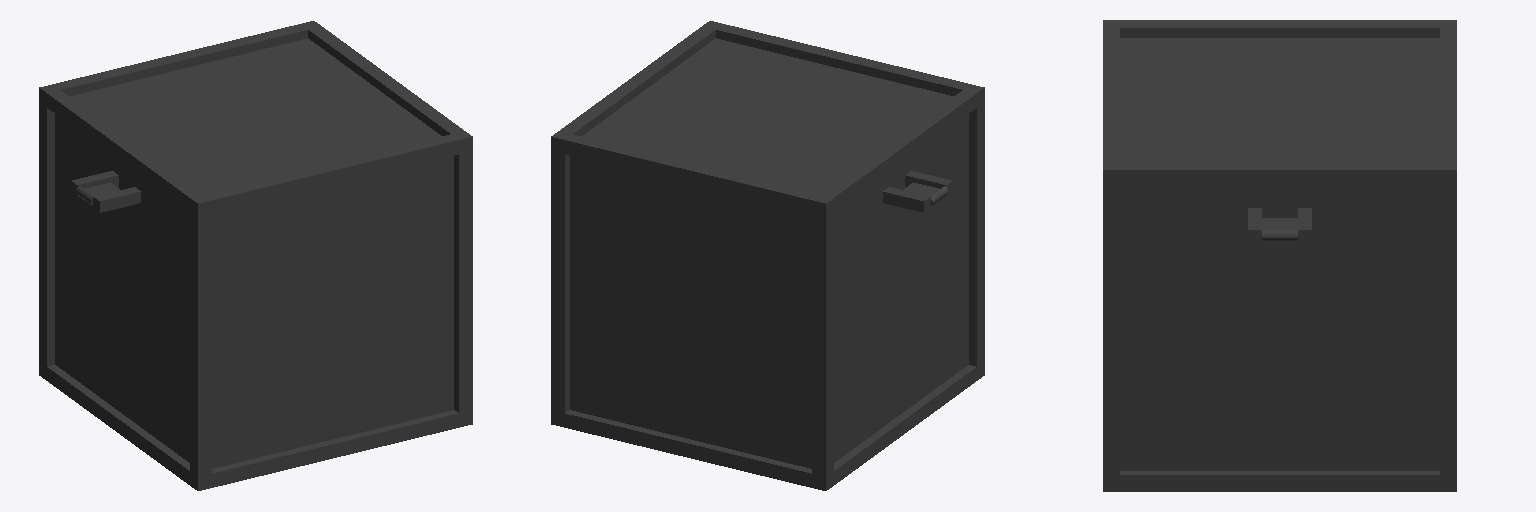
robot.urdf — box_description:
<?xml version="1.0" ?>
<!-- =================================================================================== -->
<!-- |    This document was autogenerated by xacro from src/legged_software/legged_interfaces/unitree_ros/robots/b1z1_description/xacro/box_with_handles.xacro | -->
<!-- |    EDITING THIS FILE BY HAND IS NOT RECOMMENDED                                 | -->
<!-- =================================================================================== -->
<robot name="box_description">
  <!-- Material definitions -->
  <material name="dark_gray">
    <color rgba="0.3 0.3 0.3 0.5"/>
  </material>
  <!-- Box link -->
  <link name="box">
    <inertial>
      <mass value="1"/>
      <origin rpy="0 0 0" xyz="0 0 0"/>
      <inertia ixx="0.16670" ixy="0.0" ixz="0.0" iyy="0.16670" iyz="0.0" izz="0.16670"/>
    </inertial>
    <visual>
      <geometry>
        <mesh filename="package://ocs2_multi_robot/assets/robot/b1z1_description/meshes/box.stl"/>
      </geometry>
      <origin rpy="0 0 0" xyz="0 0 0"/>
      <material name="dark_gray"/>
    </visual>
    <collision>
      <geometry>
        <mesh filename="package://ocs2_multi_robot/assets/robot/b1z1_description/meshes/box.stl"/>
      </geometry>
      <origin rpy="0 0 0" xyz="0 0 0"/>
    </collision>
  </link>
  <!-- Add an IMU sensor to the box -->
  <!-- <gazebo reference="box">
    <sensor name="box_imu" type="imu">
      <update_rate>1000</update_rate> 
      <plugin filename="libgazebo_ros_imu.so" name="imu_plugin">
        <ros>
          <namespace>/box</namespace> 
          <remapping>
            <remap from="imu/data" to="box/imu/data"/> 
          </remapping>
        </ros>
        <frameName>box</frameName>
      </plugin>
      <pose>0 0 0 0 0 0</pose> 
    </sensor>
  </gazebo> -->
  <joint name="imu_joint" type="fixed">
    <parent link="box"/>
    <child link="box_imu_link"/>
    <origin rpy="0 0 0" xyz="0 0 0"/>
  </joint>
  <link name="box_imu_link">
    <inertial>
      <mass value="0.001"/>
      <origin rpy="0 0 0" xyz="0 0 0"/>
      <inertia ixx="0.0001" ixy="0" ixz="0" iyy="0.0001" iyz="0" izz="0.0001"/>
    </inertial>
    <visual>
      <origin rpy="0 0 0" xyz="0 0 0"/>
      <geometry>
        <box size="0.001 0.001 0.001"/>
      </geometry>
      <material name="red"/>
    </visual>
    <collision>
      <origin rpy="0 0 0" xyz="0 0 0"/>
      <geometry>
        <box size=".001 .001 .001"/>
      </geometry>
    </collision>
  </link>
  <gazebo reference="box_imu_link">
    <gravity>true</gravity>
    <sensor name="imu_sensor" type="imu">
      <always_on>true</always_on>
      <update_rate>1000</update_rate>
      <visualize>true</visualize>
      <topic>__default_topic__</topic>
      <plugin filename="libgazebo_ros_imu_sensor.so" name="imu_plugin">
        <topicName>cargo_imu</topicName>
        <bodyName>imu_link</bodyName>
        <updateRateHZ>1000.0</updateRateHZ>
        <gaussianNoise>0.0</gaussianNoise>
        <xyzOffset>0 0 0</xyzOffset>
        <rpyOffset>0 0 0</rpyOffset>
        <frameName>imu_link</frameName>
      </plugin>
      <pose>0 0 0 0 0 0</pose>
    </sensor>
  </gazebo>
  <!-- Left handle -->
  <link name="left_handle">
    <inertial>
      <mass value="0.01"/>
      <origin rpy="1.5708 0 1.5708" xyz="0 0 0"/>
      <inertia ixx="0.001" ixy="0.0" ixz="0.0" iyy="0.001" iyz="0.0" izz="0.001"/>
    </inertial>
    <visual>
      <geometry>
        <mesh filename="package://ocs2_multi_robot/assets/robot/b1z1_description/meshes/handle.STL" scale="0.001 0.001 0.001"/>
      </geometry>
      <origin rpy="1.5708 0 1.5708" xyz="0 0 0"/>
      <material name="dark_gray"/>
    </visual>
    <collision>
      <geometry>
        <mesh filename="package://ocs2_multi_robot/assets/robot/b1z1_description/meshes/handle.STL" scale="0.001 0.001 0.001"/>
      </geometry>
      <origin rpy="1.5708 0 1.5708" xyz="0 0 0"/>
    </collision>
  </link>
  <!-- Add Gazebo friction properties -->
  <gazebo reference="left_handle">
    <material>Gazebo/DarkGrey</material>
    <mu1>1.5</mu1>
    <!-- Friction coefficient in first direction -->
    <mu2>1.5</mu2>
    <!-- Friction coefficient in second direction -->
    <kp>1000000.0</kp>
    <!-- Contact stiffness -->
    <kd>100.0</kd>
    <!-- Contact damping -->
    <minDepth>0.001</minDepth>
    <maxVel>0.1</maxVel>
  </gazebo>
  <!-- Right handle -->
  <link name="right_handle">
    <inertial>
      <mass value="0.01"/>
      <origin rpy="1.5708 0 -1.5708" xyz="0 0 0"/>
      <inertia ixx="0.001" ixy="0.0" ixz="0.0" iyy="0.001" iyz="0.0" izz="0.001"/>
    </inertial>
    <visual>
      <geometry>
        <mesh filename="package://ocs2_multi_robot/assets/robot/b1z1_description/meshes/handle.STL" scale="0.001 0.001 0.001"/>
      </geometry>
      <origin rpy="1.5708 0 -1.5708" xyz="0 0 0"/>
      <material name="dark_gray"/>
    </visual>
    <collision>
      <geometry>
        <mesh filename="package://ocs2_multi_robot/assets/robot/b1z1_description/meshes/handle.STL" scale="0.001 0.001 0.001"/>
      </geometry>
      <origin rpy="1.5708 0 -1.5708" xyz="0 0 0"/>
    </collision>
  </link>
  <!-- Add Gazebo friction properties -->
  <gazebo reference="right_handle">
    <material>Gazebo/DarkGrey</material>
    <mu1>1.5</mu1>
    <!-- Friction coefficient in first direction -->
    <mu2>1.5</mu2>
    <!-- Friction coefficient in second direction -->
    <kp>1000000.0</kp>
    <!-- Contact stiffness -->
    <kd>100.0</kd>
    <!-- Contact damping -->
    <minDepth>0.001</minDepth>
    <maxVel>0.1</maxVel>
  </gazebo>
  <!-- Left handle end cube 1 -->
  <link name="left_handle_cube1">
    <inertial>
      <mass value="0.001"/>
      <origin rpy="0 0 0" xyz="0 0 0"/>
      <inertia ixx="0.0001" ixy="0.0" ixz="0.0" iyy="0.0001" iyz="0.0" izz="0.0001"/>
    </inertial>
    <visual>
      <geometry>
        <box size="0.15 0.04 0.04"/>
      </geometry>
      <origin rpy="0 0 0" xyz="0.055 0 0"/>
      <material name="dark_gray"/>
    </visual>
    <collision>
      <geometry>
        <box size="0.15 0.04 0.04"/>
      </geometry>
      <origin rpy="0 0 0" xyz="0.055 0 0"/>
    </collision>
  </link>
  <!-- Left handle end cube 2 -->
  <link name="left_handle_cube2">
    <inertial>
      <mass value="0.001"/>
      <origin rpy="0 0 0" xyz="0 0 0"/>
      <inertia ixx="0.0001" ixy="0.0" ixz="0.0" iyy="0.0001" iyz="0.0" izz="0.0001"/>
    </inertial>
    <visual>
      <geometry>
        <box size="0.15 0.04 0.04"/>
      </geometry>
      <origin rpy="0 0 0" xyz="0.055 0 0"/>
      <material name="dark_gray"/>
    </visual>
    <collision>
      <geometry>
        <box size="0.15 0.04 0.04"/>
      </geometry>
      <origin rpy="0 0 0" xyz="0.055 0 0"/>
    </collision>
  </link>
  <!-- Right handle end cube 1 -->
  <link name="right_handle_cube1">
    <inertial>
      <mass value="0.001"/>
      <origin rpy="0 0 0" xyz="0 0 0"/>
      <inertia ixx="0.0001" ixy="0.0" ixz="0.0" iyy="0.0001" iyz="0.0" izz="0.0001"/>
    </inertial>
    <visual>
      <geometry>
        <box size="0.15 0.04 0.04"/>
      </geometry>
      <origin rpy="0 0 0" xyz="-0.055 0 0"/>
      <material name="dark_gray"/>
    </visual>
    <collision>
      <geometry>
        <box size="0.15 0.04 0.04"/>
      </geometry>
      <origin rpy="0 0 0" xyz="-0.055 0 0"/>
    </collision>
  </link>
  <!-- Right handle end cube 2 -->
  <link name="right_handle_cube2">
    <inertial>
      <mass value="0.001"/>
      <origin rpy="0 0 0" xyz="0 0 0"/>
      <inertia ixx="0.0001" ixy="0.0" ixz="0.0" iyy="0.0001" iyz="0.0" izz="0.0001"/>
    </inertial>
    <visual>
      <geometry>
        <box size="0.15 0.04 0.04"/>
      </geometry>
      <origin rpy="0 0 0" xyz="-0.055 0 0"/>
      <material name="dark_gray"/>
    </visual>
    <collision>
      <geometry>
        <box size="0.15 0.04 0.04"/>
      </geometry>
      <origin rpy="0 0 0" xyz="-0.055 0 0"/>
    </collision>
  </link>
  <!-- Joints -->
  <joint name="left_handle_joint" type="fixed">
    <parent link="box"/>
    <child link="left_handle"/>
    <origin rpy="0 0 0" xyz="-0.6 0 0.35"/>
    <dynamics friction="0.8"/>
  </joint>
  <joint name="right_handle_joint" type="fixed">
    <parent link="box"/>
    <child link="right_handle"/>
    <origin rpy="0 0 0" xyz="0.6 0 0.35"/>
    <dynamics friction="0.8"/>
  </joint>
  <!-- Left handle cube joints -->
  <joint name="left_handle_cube1_joint" type="fixed">
    <parent link="left_handle"/>
    <child link="left_handle_cube1"/>
    <origin rpy="0 0 0" xyz="0 0.07 0"/>
  </joint>
  <joint name="left_handle_cube2_joint" type="fixed">
    <parent link="left_handle"/>
    <child link="left_handle_cube2"/>
    <origin rpy="0 0 0" xyz="0 -0.07 0"/>
  </joint>
  <!-- Right handle cube joints -->
  <joint name="right_handle_cube1_joint" type="fixed">
    <parent link="right_handle"/>
    <child link="right_handle_cube1"/>
    <origin rpy="0 0 0" xyz="0 0.07 0"/>
  </joint>
  <joint name="right_handle_cube2_joint" type="fixed">
    <parent link="right_handle"/>
    <child link="right_handle_cube2"/>
    <origin rpy="0 0 0" xyz="0 -0.07 0"/>
  </joint>
</robot>

--- Facts derived from the render (not from the file) ---
The picture shows the robot from 3 angles, left to right: view 1: azimuth 30°, elevation 25°; view 2: azimuth 150°, elevation 25°; view 3: azimuth 270°, elevation 25°; orthographic projection.
Robot: box_description — 8 links, 7 joints (7 fixed); root link box; default pose: every joint at zero.
Links seen in each view (by area): view 1: box, left_handle_cube2, left_handle_cube1; view 2: box, left_handle_cube1, left_handle_cube2; view 3: box, right_handle.
Boxes of the visible links, x1,y1,x2,y2 form: box: [39, 21, 472, 490]; left_handle_cube2: [93, 187, 140, 212]; left_handle_cube1: [71, 171, 118, 196]; box: [551, 21, 984, 490]; left_handle_cube1: [883, 187, 930, 212]; left_handle_cube2: [905, 171, 952, 196]; box: [1103, 20, 1456, 491]; right_handle: [1262, 218, 1297, 240].
Size in the robot's own frame: 1.25 by 1 by 1 metres.
3 mesh visuals loaded from 2 distinct referenced files (2 binary STL).
